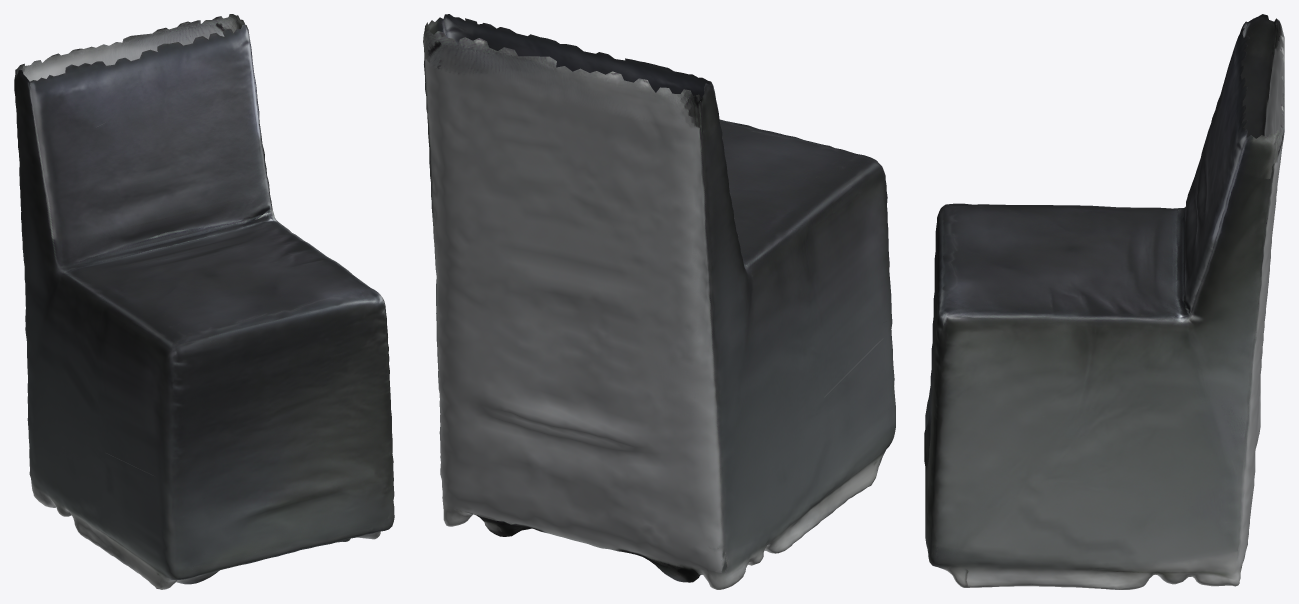
File: Chair_Block_Leather_32InchesTall_0222192149_texture.glb
The picture shows the model from 3 angles, left to right: view 1: azimuth 30°, elevation 25°; view 2: azimuth 150°, elevation 25°; view 3: azimuth 270°, elevation 25°; orthographic projection. The views are drawn at different scales.
Parts seen in each view (by area): view 1: Mesh_0; view 2: Mesh_0; view 3: Mesh_0.
Part boxes in pixels (box(x1,y1,x2,y2)): Mesh_0: box(14, 14, 394, 589); Mesh_0: box(423, 14, 895, 589); Mesh_0: box(924, 14, 1284, 589).
Size of the model in its own units: 0.4661 by 0.8128 by 0.5772.
Materials: 1 (1 with a texture image).
